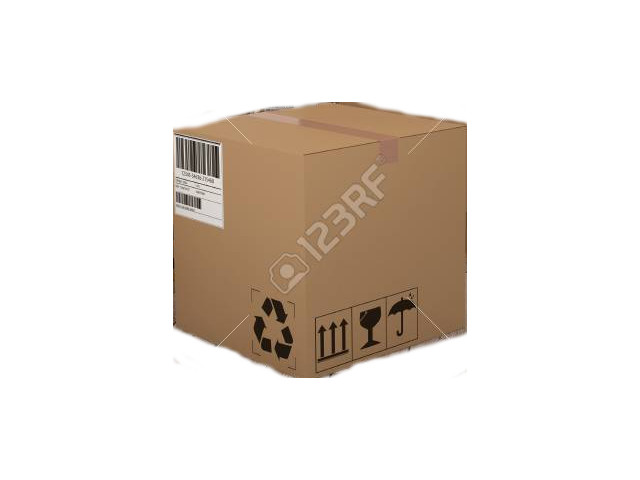cardboard: (171, 102, 465, 375)
